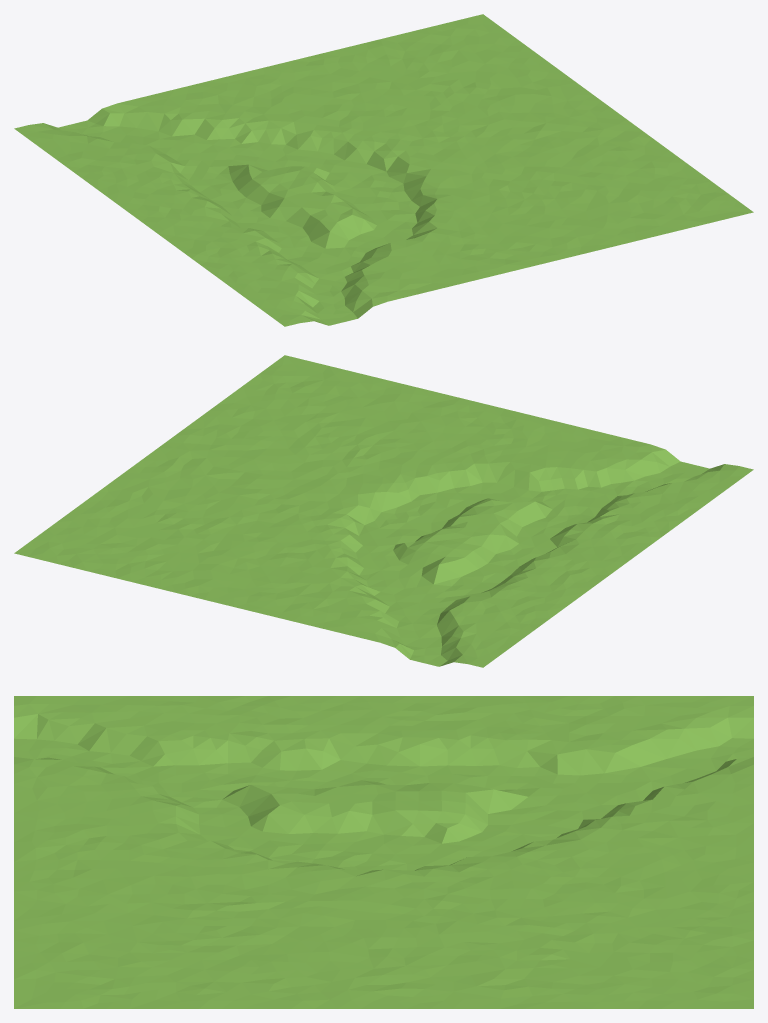
The model's file is MT_River_L_a_04.fbx.
The picture shows the model from 3 angles, top to bottom: view 1: azimuth 30°, elevation 25°; view 2: azimuth 150°, elevation 25°; view 3: azimuth 270°, elevation 25°; orthographic projection. The views are drawn at different scales.
Visible parts, largest first — view 1: MT_River_L_a_04; view 2: MT_River_L_a_04; view 3: MT_River_L_a_04.
Part boxes in pixels (x1,y1,x2,y2): MT_River_L_a_04: (14, 14, 753, 326); MT_River_L_a_04: (14, 355, 753, 667); MT_River_L_a_04: (14, 696, 753, 1008).
Bounding box in the file's own units: 10000 × 232 × 10000.
